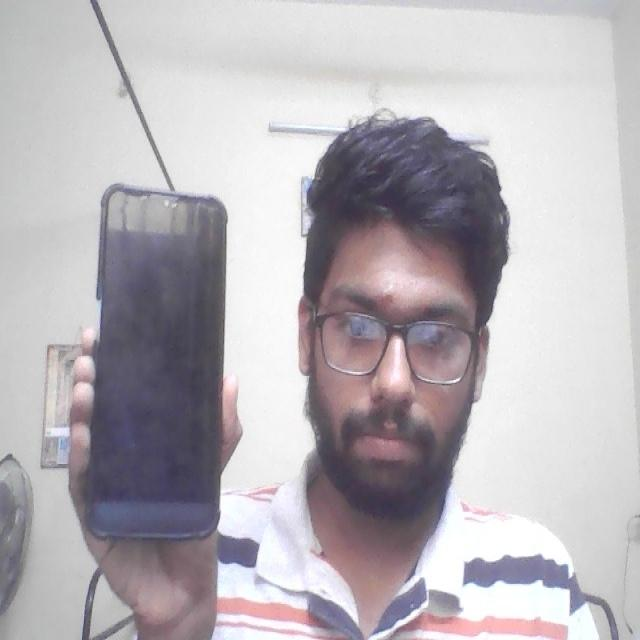Mobile: (79, 174, 232, 542)
